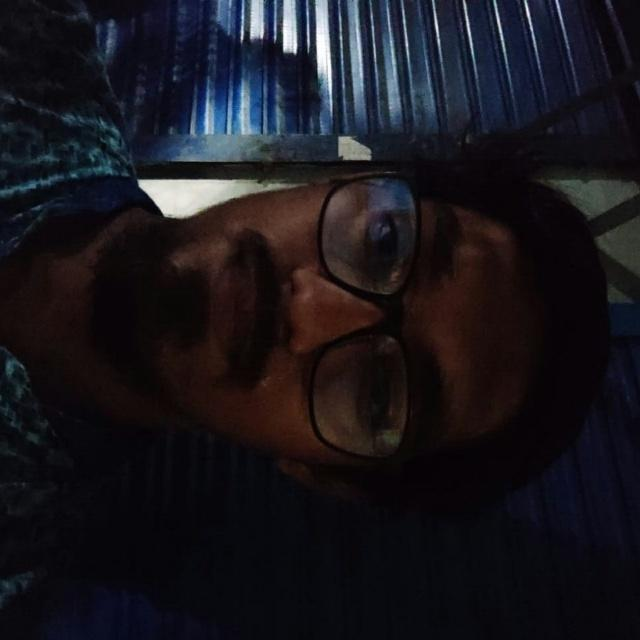Natural: (135, 122, 557, 517)
